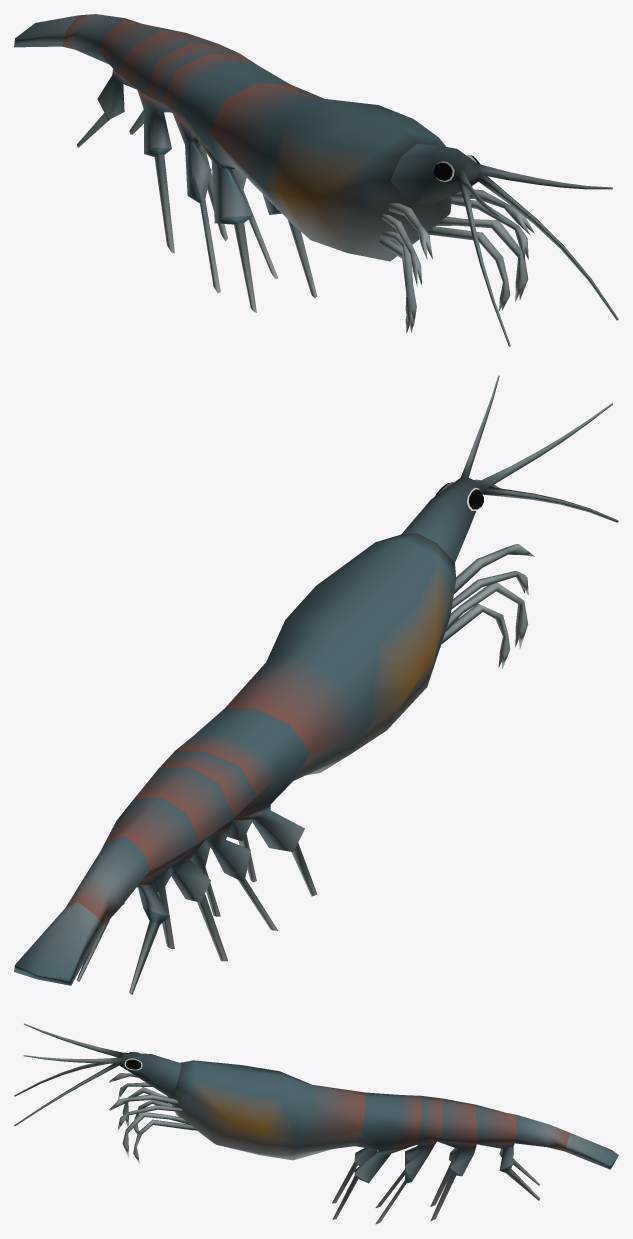
The model's file is microscopic-plankton-krill_v1.glb.
The picture shows the model from 3 angles, top to bottom: view 1: azimuth 30°, elevation 25°; view 2: azimuth 150°, elevation 25°; view 3: azimuth 270°, elevation 25°; orthographic projection. The views are drawn at different scales.
Visible parts, largest first — view 1: Krill; view 2: Krill; view 3: Krill.
Boxes of the visible parts, left/top/right/bottom form: Krill: left=14, top=14, right=618, bottom=346; Krill: left=14, top=375, right=618, bottom=994; Krill: left=14, top=1023, right=618, bottom=1224.
Size of the model in its own units: 0.0029 by 0.00645 by 0.02.
